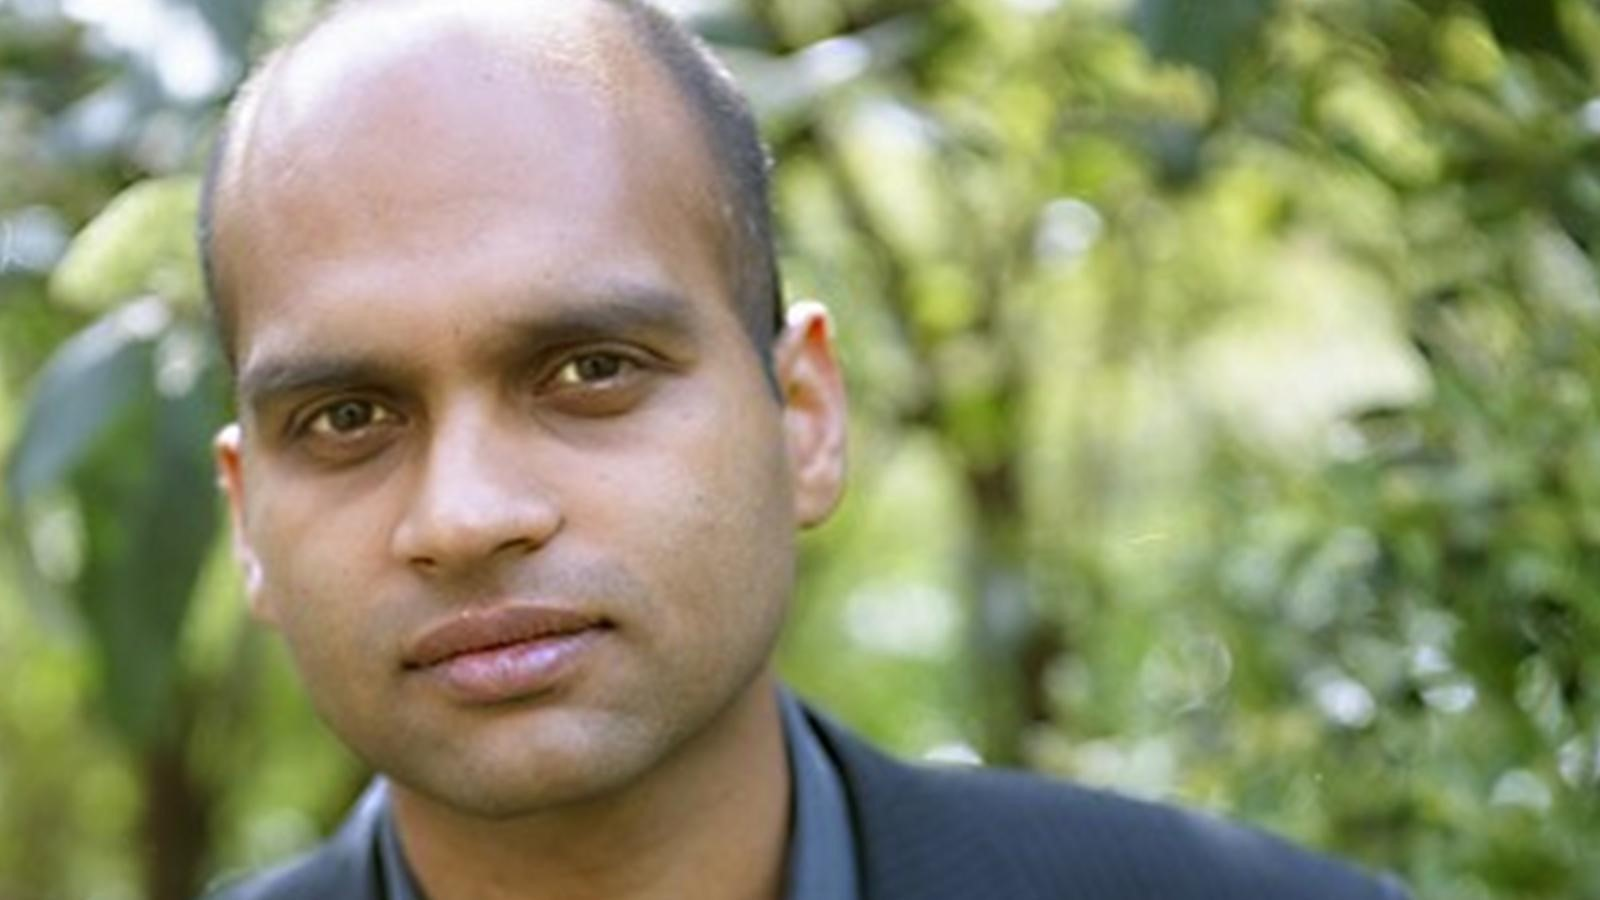face_no_mask: (198, 0, 848, 819)
